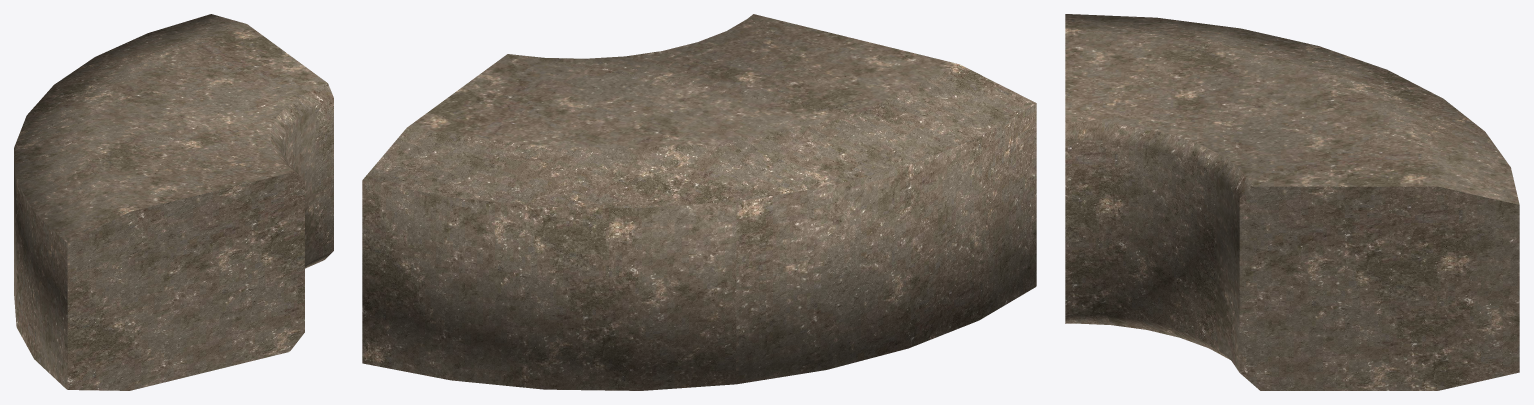
The model's file is mdl_franch_Snake_Quarter.gltf.
3 renders of one model, left to right at view 1: azimuth 30°, elevation 25°; view 2: azimuth 150°, elevation 25°; view 3: azimuth 270°, elevation 25°, orthographic. The views are drawn at different scales.
Visible parts, largest first — view 1: Cylinder; view 2: Cylinder; view 3: Cylinder.
Part boxes in pixels (left/top/right/bottom): Cylinder: left=14, top=14, right=333, bottom=390; Cylinder: left=362, top=14, right=1036, bottom=390; Cylinder: left=1065, top=14, right=1519, bottom=390.
Bounding box in the file's own units: 1 × 0.5002 × 1.01.
Materials: 1 (1 with a texture image).
